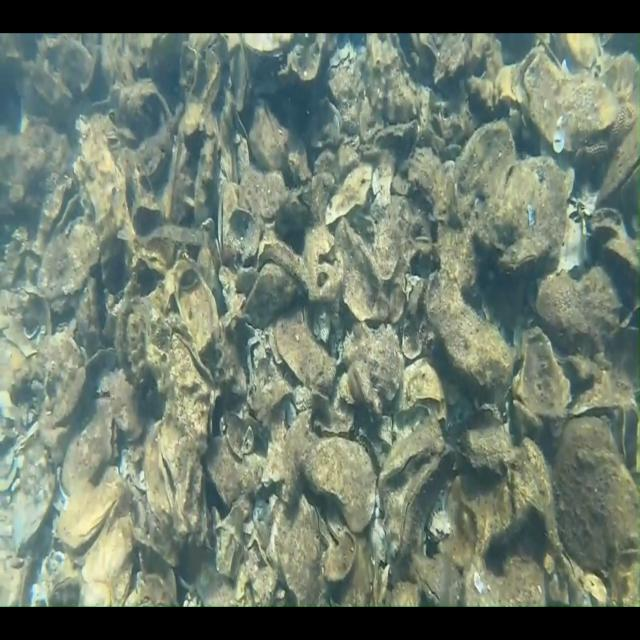Oyster- Indeterminate: (163, 253, 230, 355)
Oyster-Closed: (411, 261, 525, 404), (501, 48, 628, 165), (464, 153, 576, 275), (290, 421, 404, 536), (62, 109, 140, 250), (491, 323, 582, 433), (263, 307, 348, 403), (29, 213, 109, 308), (213, 496, 279, 607), (48, 466, 124, 557), (243, 229, 308, 334), (27, 31, 99, 113), (92, 358, 156, 450), (106, 71, 178, 146), (30, 550, 83, 607), (214, 176, 238, 254)
Oyster-Open: (369, 440, 453, 568), (355, 413, 451, 519), (136, 417, 212, 540), (410, 552, 464, 610)
